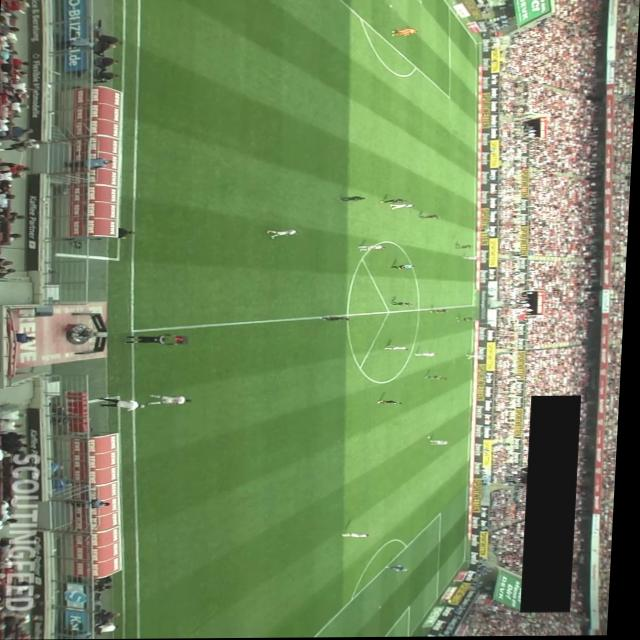goalkeeper: (390, 29, 419, 37), (391, 565, 415, 573)
player: (151, 394, 196, 406), (269, 230, 302, 240), (393, 301, 418, 308), (339, 197, 367, 203), (360, 245, 388, 251), (382, 199, 408, 205), (392, 205, 417, 211), (324, 317, 353, 322), (346, 533, 375, 538), (418, 352, 441, 358), (467, 355, 490, 361), (387, 346, 412, 351), (428, 376, 451, 381), (420, 215, 442, 220), (432, 441, 453, 446), (381, 401, 406, 405), (458, 318, 476, 323), (458, 245, 474, 250), (434, 310, 452, 314), (463, 257, 481, 261)
referee: (127, 335, 179, 345), (475, 228, 498, 234), (393, 265, 419, 270)
